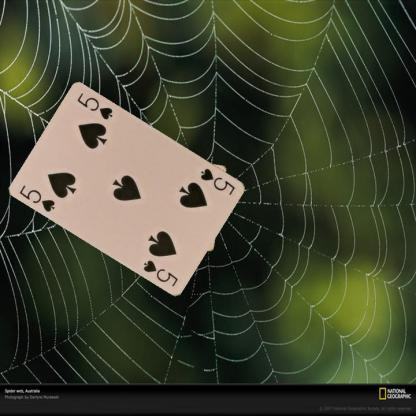5s: (16, 182, 56, 213), (198, 166, 237, 196)
